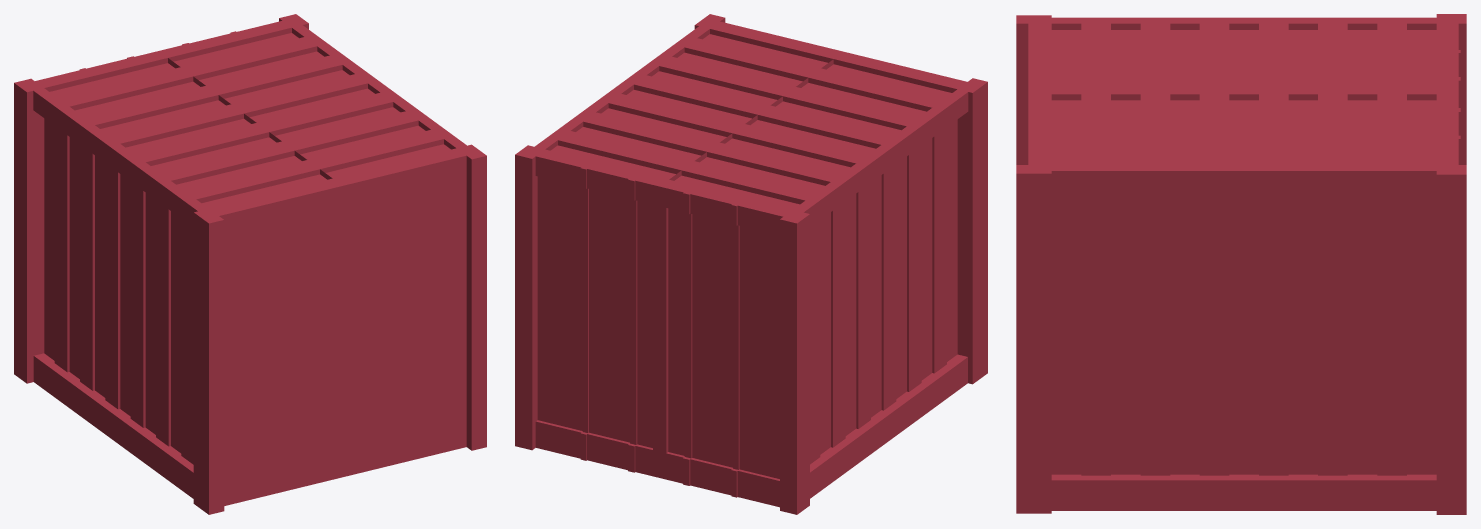
Rendered from SeaCont_mini.fbx.
3 renders of one model, left to right at view 1: azimuth 30°, elevation 25°; view 2: azimuth 150°, elevation 25°; view 3: azimuth 270°, elevation 25°, orthographic. The views are drawn at different scales.
Visible parts, largest first — view 1: Cube.001; view 2: Cube.001; view 3: Cube.001.
Part boxes in pixels (bbox=[...]): Cube.001: bbox=[14, 14, 486, 514]; Cube.001: bbox=[515, 14, 987, 514]; Cube.001: bbox=[1016, 14, 1466, 514].
Bounding box in the file's own units: 203 × 200 × 240.
